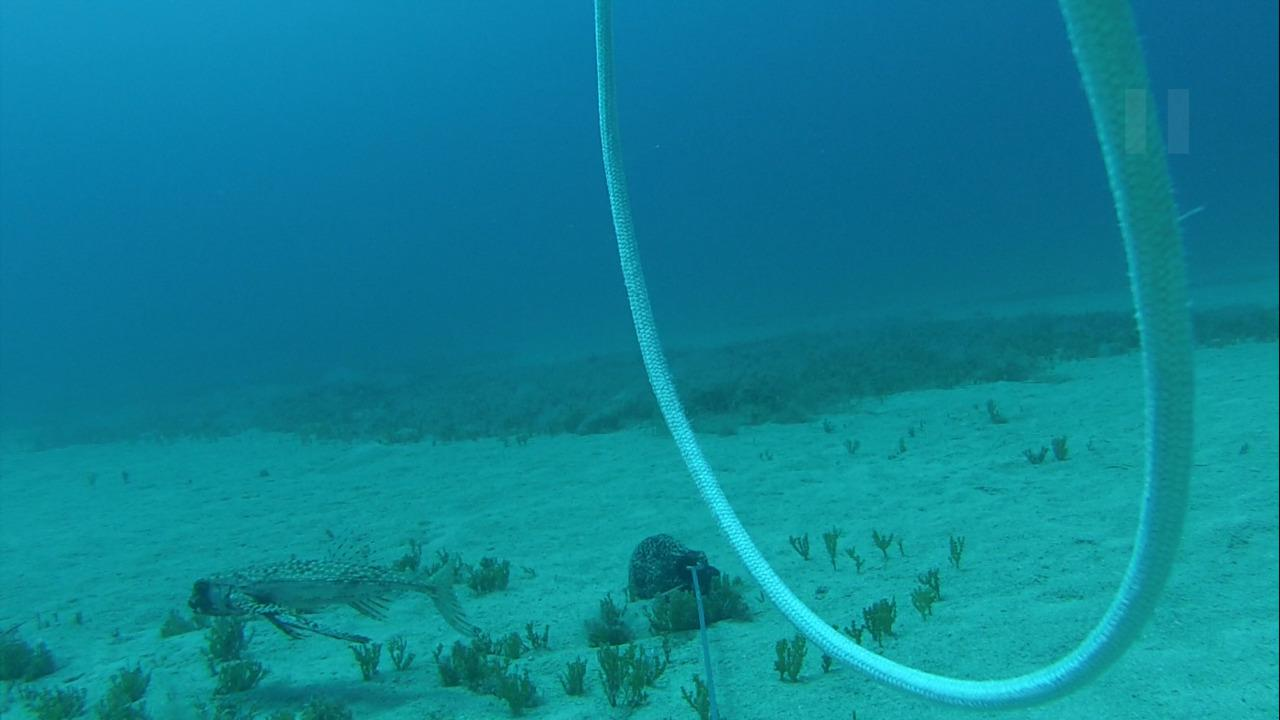dactylopterus: (182, 534, 486, 651)
